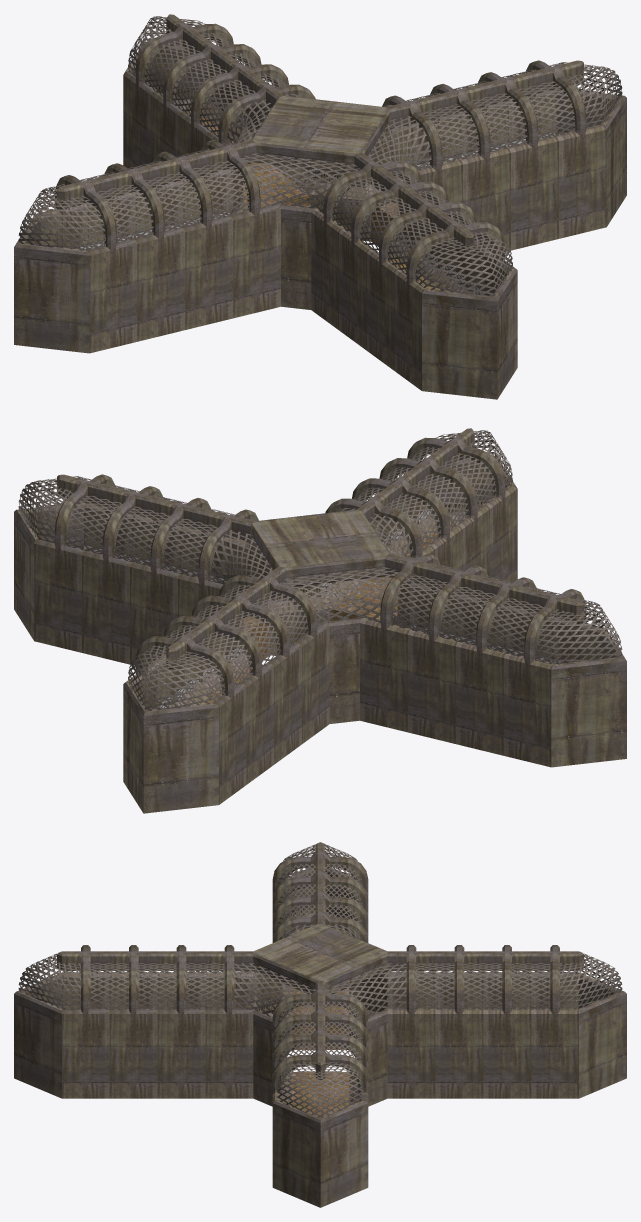
The model's file is Dragonfly_Lancer.fbx.
3 renders of one model, top to bottom at view 1: azimuth 30°, elevation 25°; view 2: azimuth 150°, elevation 25°; view 3: azimuth 270°, elevation 25°, orthographic. The views are drawn at different scales.
Visible parts, largest first — view 1: Metal Primary, Metal Secondary, Bricks, Lights; view 2: Metal Primary, Metal Secondary, Bricks, Lights; view 3: Metal Primary, Metal Secondary, Bricks.
Part boxes in pixels (x1,y1,x2,y2): Metal Primary: (14,14,626,399); Metal Secondary: (18,16,622,296); Bricks: (188,112,440,290); Lights: (77,95,555,295); Metal Primary: (14,428,626,813); Metal Secondary: (18,430,622,710); Bricks: (200,526,451,704); Lights: (85,509,563,709); Metal Primary: (14,842,626,1207); Metal Secondary: (18,843,622,1117); Bricks: (291,928,349,1117).
Size of the model in its own units: 64 by 14.5 by 64.
